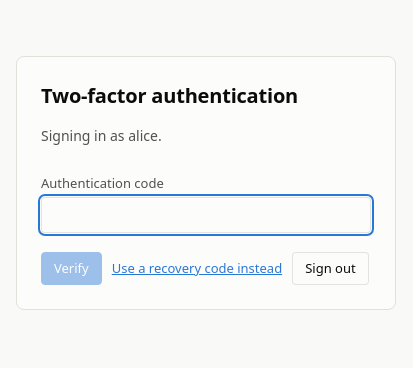
Scenario: TotpStep › invalid shows the check-your-clock string with attempts_remaining
Type "123456" into the field labelled "Authentication code".
click(206, 215); type("123456")  # box [41,197,371,233]
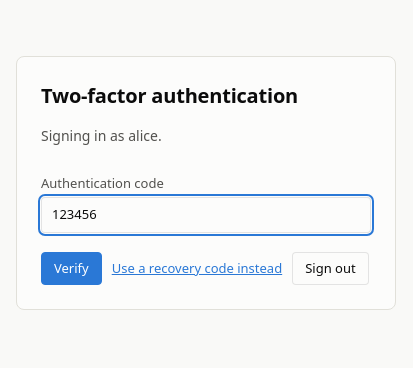
Click the button "Verify".
click(71, 269)  # box [41,252,102,285]
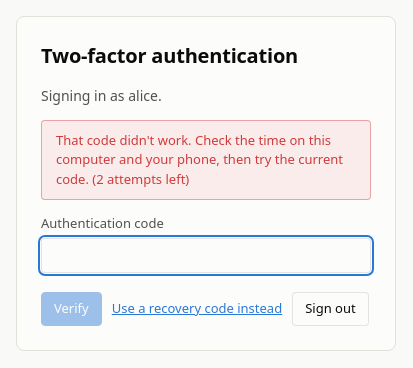
Expected: the message shows "(2 attempts left)", [56,130,343,188]
